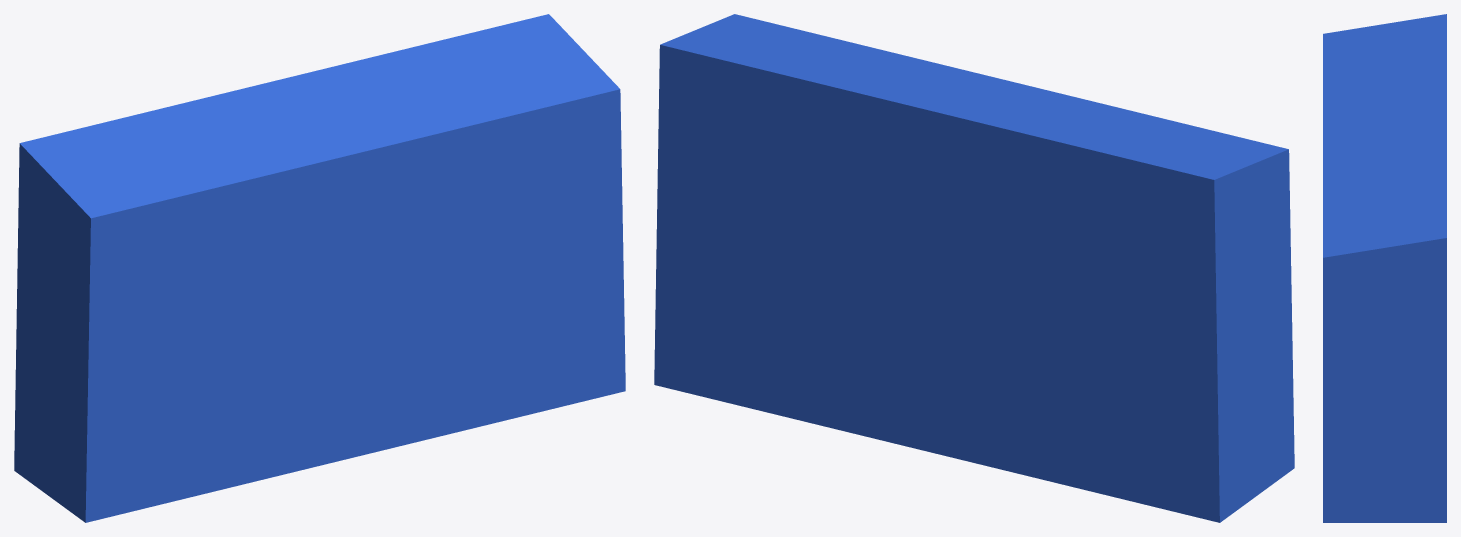
Rendered from Collision_Shelf_Small_Bottles.fbx.
3 views of the same model, side by side, from view 1: azimuth 30°, elevation 25°; view 2: azimuth 150°, elevation 25°; view 3: azimuth 270°, elevation 25° (orthographic). The views are drawn at different scales.
Visible parts, largest first — view 1: UCX_Shelf_Small_Bottles_1; view 2: UCX_Shelf_Small_Bottles_1; view 3: UCX_Shelf_Small_Bottles_1.
Boxes of the visible parts, x1=… form: UCX_Shelf_Small_Bottles_1: x1=14, y1=14, x2=625, y2=522; UCX_Shelf_Small_Bottles_1: x1=654, y1=14, x2=1294, y2=522; UCX_Shelf_Small_Bottles_1: x1=1323, y1=14, x2=1446, y2=522.
Size of the model in its own units: 113 by 65.12 by 25.85.
